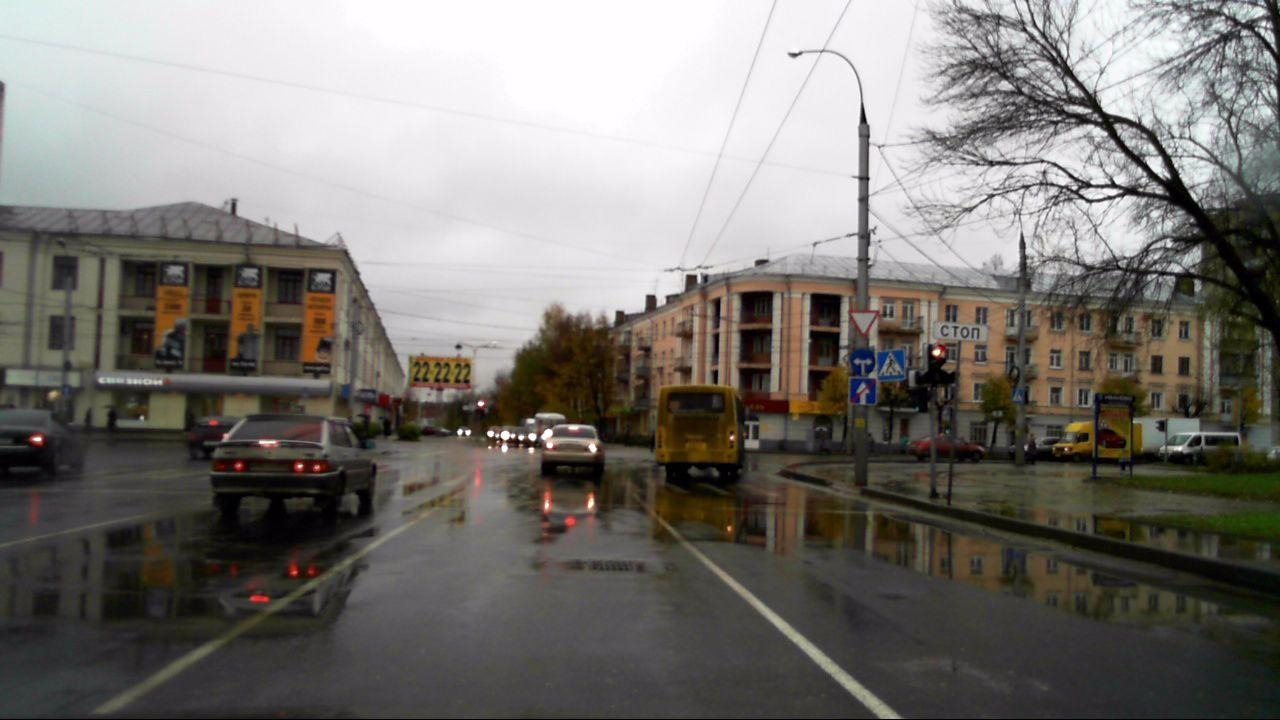2_4: (848, 309, 878, 334)
4_1_6: (848, 349, 875, 376)
5_19_1: (877, 349, 905, 381), (1011, 388, 1026, 404)
5_6: (849, 378, 877, 404)
6_16: (934, 320, 988, 342)
